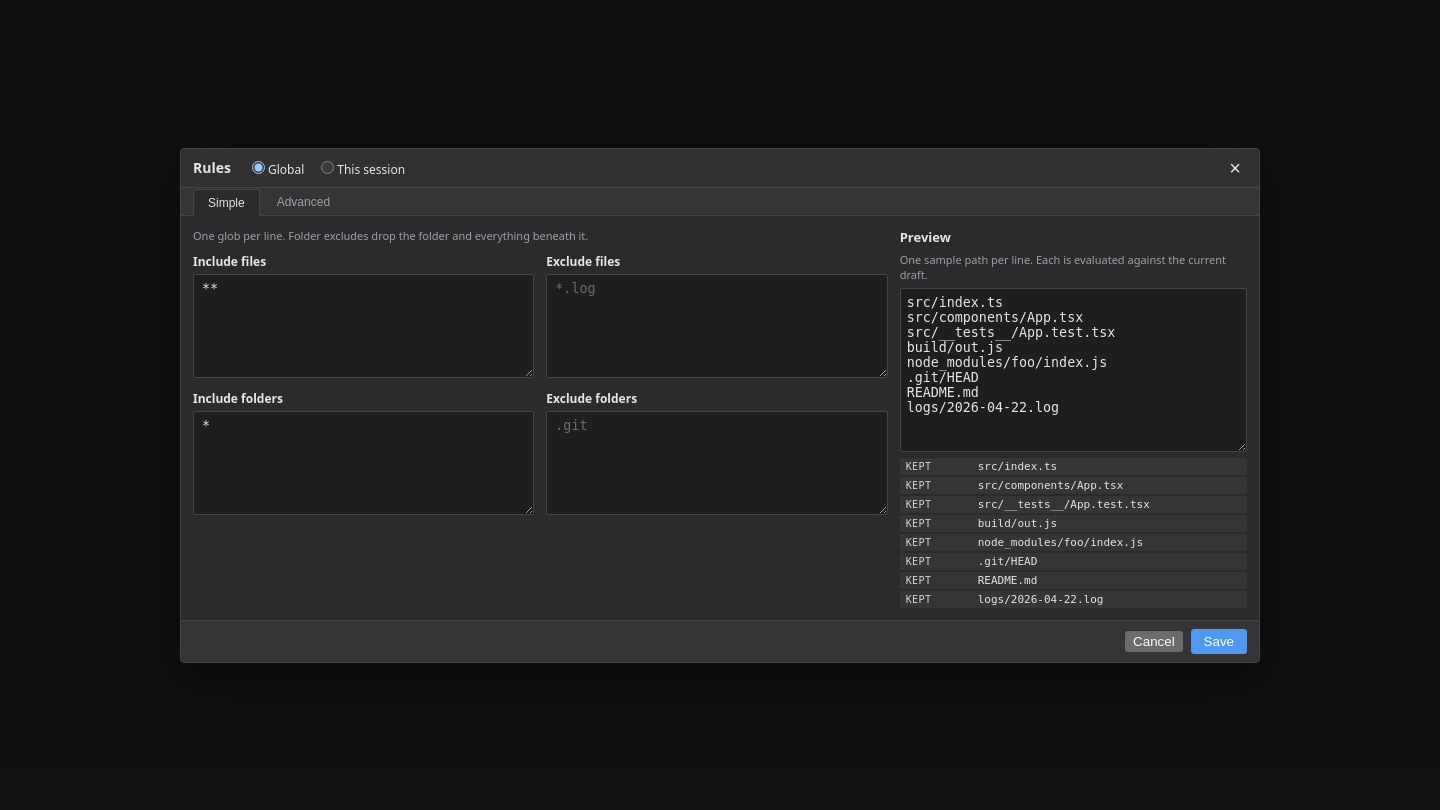
<RulesEditor /> › adds a new draft rule on "Add rule" without saving immediately
Click the tab "Advanced".
click(303, 201)  # box [262,188,345,214]
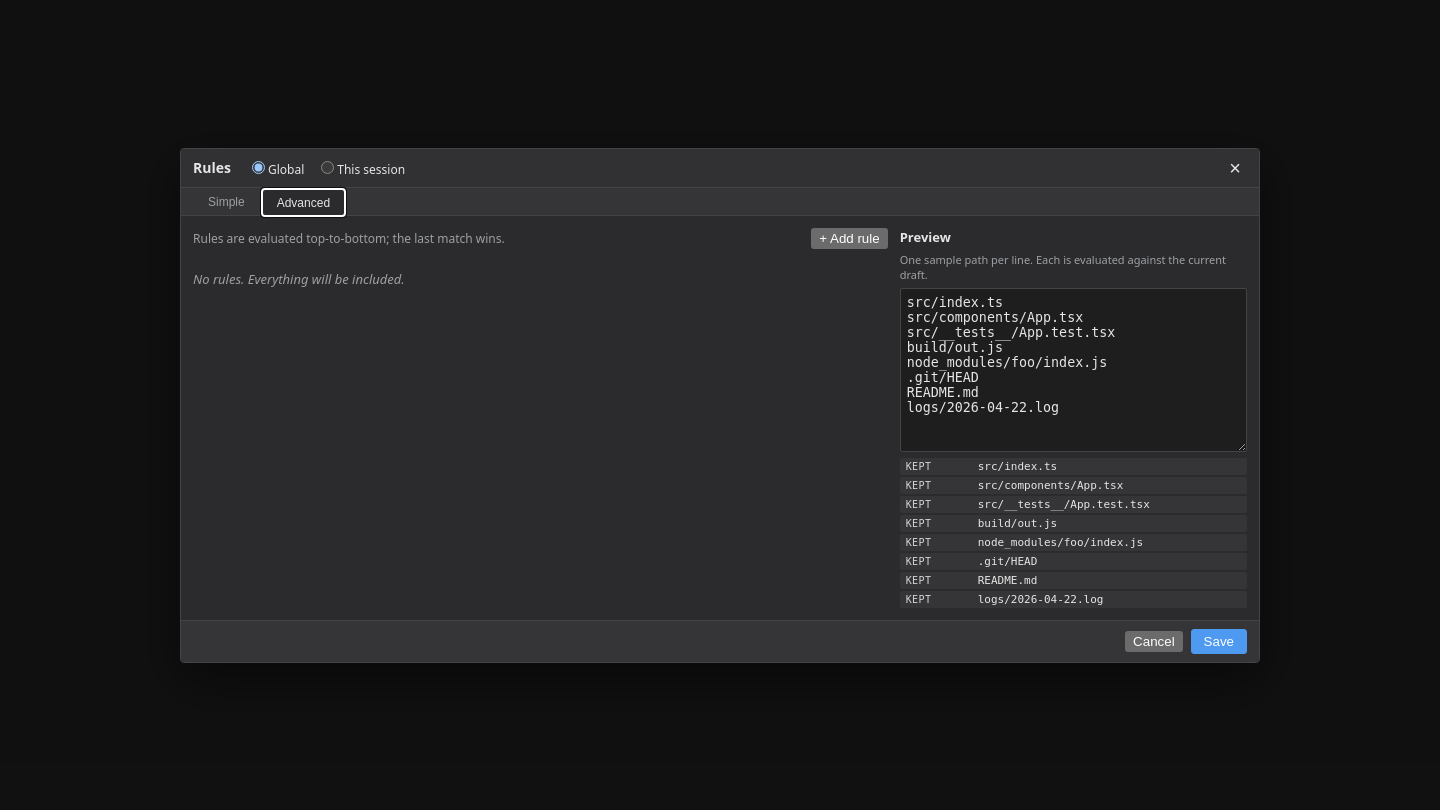
Click the button "+ Add rule".
click(850, 238)  # box [811,228,888,248]
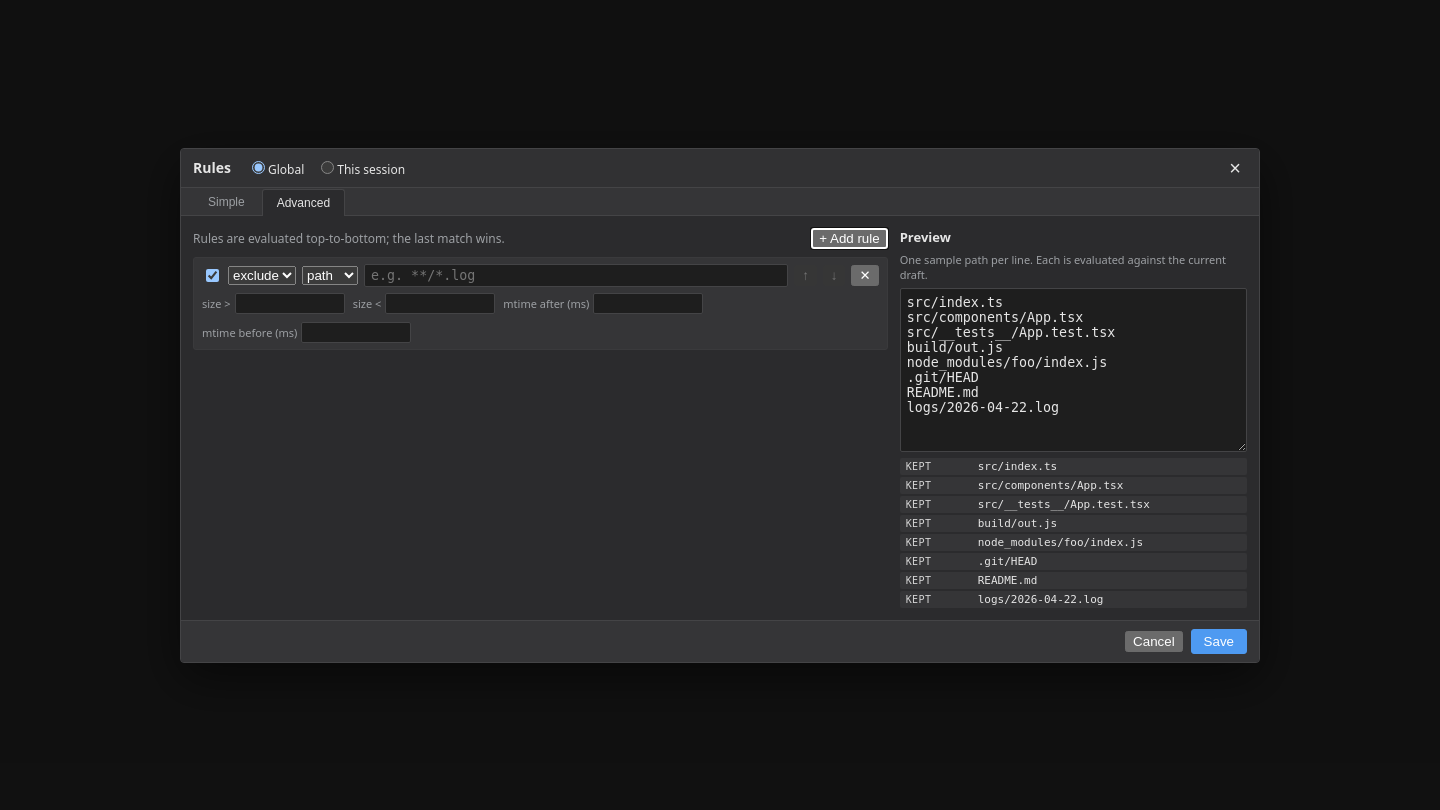
Now the list item with aria-label "Rule 1" is shown, box [193,256,888,350]
